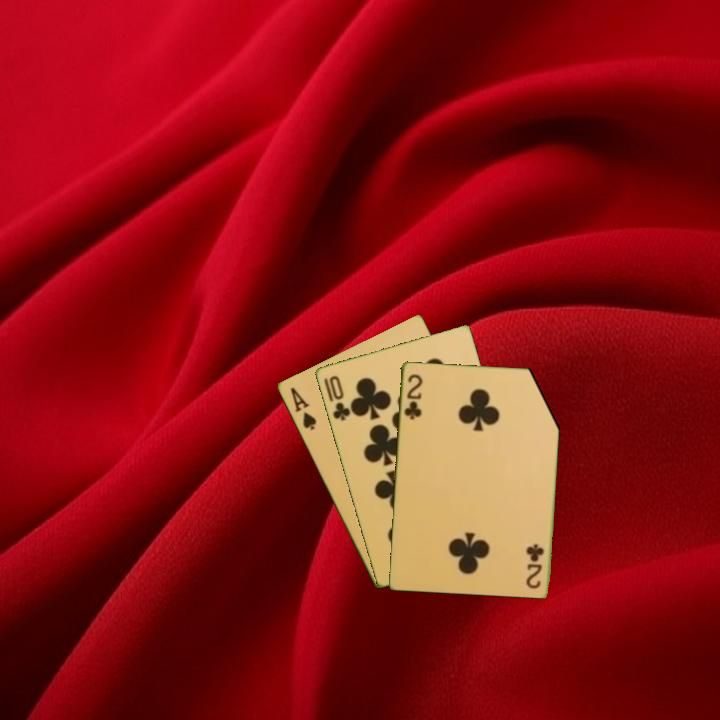10c: (325, 372, 353, 424)
2c: (400, 370, 425, 422), (524, 540, 547, 591)
As: (286, 383, 319, 433)
